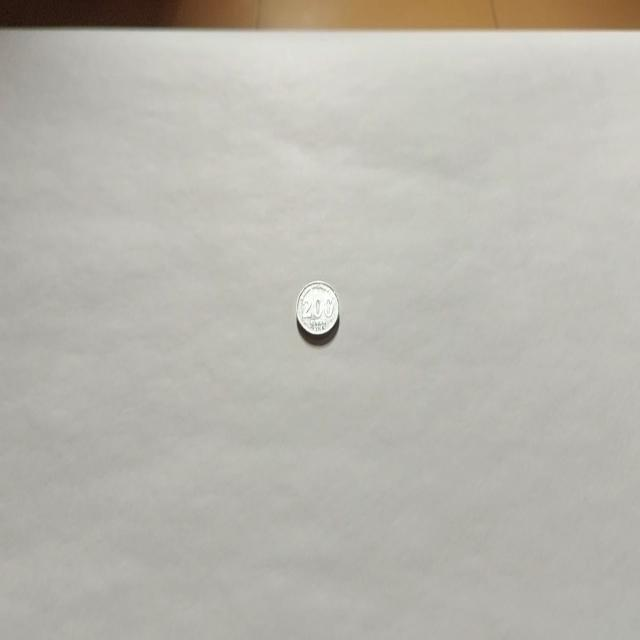dua ratus rupiah: (294, 278, 340, 344)
